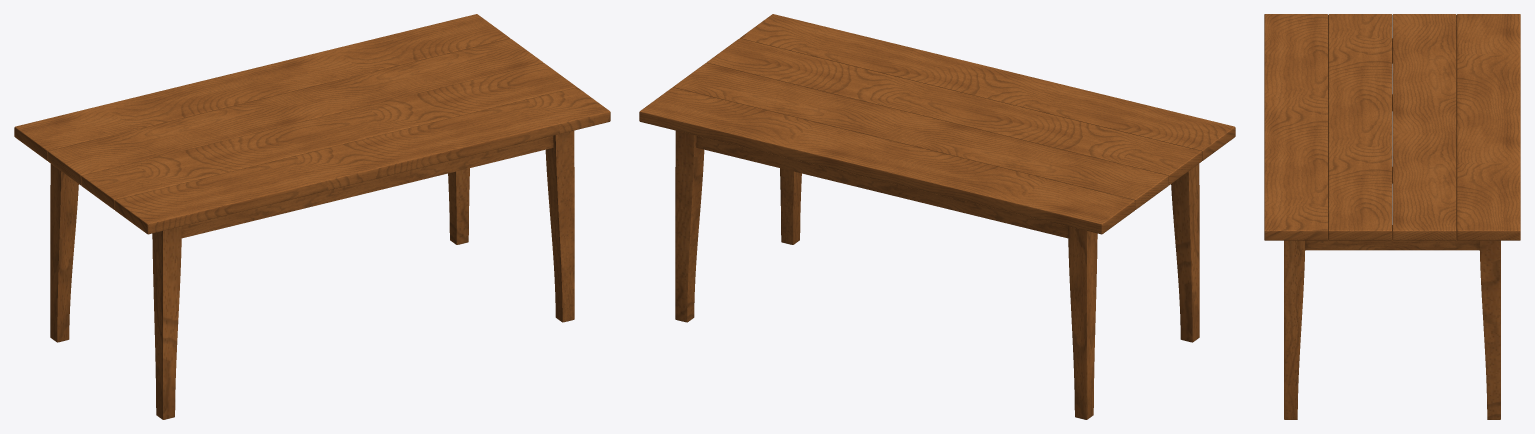
The model's file is mesa-jantar.glb.
The picture shows the model from 3 angles, left to right: view 1: azimuth 30°, elevation 25°; view 2: azimuth 150°, elevation 25°; view 3: azimuth 270°, elevation 25°; orthographic projection. The views are drawn at different scales.
Parts seen in each view (by area): view 1: Tampo, Estrutura; view 2: Tampo, Estrutura; view 3: Tampo, Estrutura.
Boxes of the visible parts, box(x1,y1,x2,y2) form: Tampo: box(14, 14, 610, 234); Estrutura: box(50, 130, 574, 419); Tampo: box(639, 14, 1235, 234); Estrutura: box(675, 130, 1199, 419); Tampo: box(1264, 14, 1520, 240); Estrutura: box(1284, 38, 1500, 419).
Size of the model in its own units: 1.8 by 0.78 by 0.8994.
Materials: 2 (2 with a texture image).
